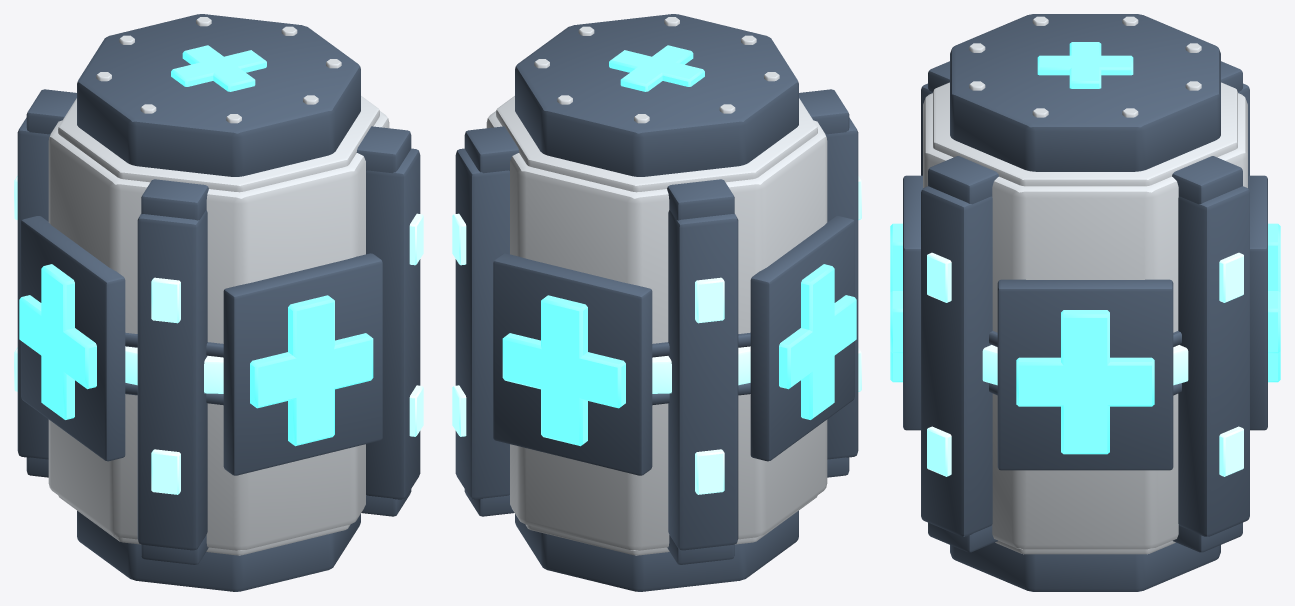
Rendered from pickup_repair.glb.
The picture shows the model from 3 angles, left to right: view 1: azimuth 30°, elevation 25°; view 2: azimuth 150°, elevation 25°; view 3: azimuth 270°, elevation 25°; orthographic projection.
Parts seen in each view (by area): view 1: Pickup_MedPod_Core, Pickup_MedPod_Cap_1, Pickup_MedPod_CornerRib_2, Pickup_MedPod_Bezel_3, Pickup_MedPod_CornerRib_3, Pickup_MedPod_Bezel_2, Pickup_MedPod_Cap_-1, Pickup_MedPod_Collar_1, Pickup_MedPod_CrossV_3, Pickup_MedPod_CrossH_3, Pickup_MedPod_CornerRib_1, Pickup_MedPod_CrossV_2 (+14 smaller); view 2: Pickup_MedPod_Core, Pickup_MedPod_Cap_1, Pickup_MedPod_CornerRib_1, Pickup_MedPod_Bezel_1, Pickup_MedPod_CornerRib_0, Pickup_MedPod_Bezel_2, Pickup_MedPod_Cap_-1, Pickup_MedPod_Collar_1, Pickup_MedPod_CrossV_1, Pickup_MedPod_CrossH_1, Pickup_MedPod_CornerRib_2, Pickup_MedPod_CrossV_2 (+14 smaller); view 3: Pickup_MedPod_Core, Pickup_MedPod_Cap_1, Pickup_MedPod_Bezel_0, Pickup_MedPod_CornerRib_0, Pickup_MedPod_CornerRib_3, Pickup_MedPod_Cap_-1, Pickup_MedPod_Collar_1, Pickup_MedPod_CrossH_0, Pickup_MedPod_CrossV_0, Pickup_MedPod_Bezel_1, Pickup_MedPod_Bezel_3, Pickup_MedPod_Knuckle_0_1 (+15 smaller).
Boxes of the visible parts, bbox=[...] form: Pickup_MedPod_Core: bbox=[48, 111, 389, 550]; Pickup_MedPod_Cap_1: bbox=[77, 14, 360, 176]; Pickup_MedPod_CornerRib_2: bbox=[137, 210, 207, 550]; Pickup_MedPod_Bezel_3: bbox=[223, 253, 382, 475]; Pickup_MedPod_CornerRib_3: bbox=[366, 148, 420, 499]; Pickup_MedPod_Bezel_2: bbox=[21, 216, 125, 461]; Pickup_MedPod_Cap_-1: bbox=[77, 511, 360, 591]; Pickup_MedPod_Collar_1: bbox=[58, 96, 379, 192]; Pickup_MedPod_CrossV_3: bbox=[288, 295, 334, 446]; Pickup_MedPod_CrossH_3: bbox=[250, 333, 373, 408]; Pickup_MedPod_CornerRib_1: bbox=[17, 117, 49, 459]; Pickup_MedPod_CrossV_2: bbox=[41, 264, 74, 419]; Pickup_MedPod_Core: bbox=[486, 111, 827, 550]; Pickup_MedPod_Cap_1: bbox=[515, 14, 798, 176]; Pickup_MedPod_CornerRib_1: bbox=[668, 210, 738, 550]; Pickup_MedPod_Bezel_1: bbox=[493, 253, 652, 475]; Pickup_MedPod_CornerRib_0: bbox=[455, 148, 509, 499]; Pickup_MedPod_Bezel_2: bbox=[750, 216, 854, 461]; Pickup_MedPod_Cap_-1: bbox=[515, 511, 798, 591]; Pickup_MedPod_Collar_1: bbox=[496, 96, 817, 192]; Pickup_MedPod_CrossV_1: bbox=[541, 295, 587, 446]; Pickup_MedPod_CrossH_1: bbox=[502, 333, 625, 408]; Pickup_MedPod_CornerRib_2: bbox=[826, 117, 858, 459]; Pickup_MedPod_CrossV_2: bbox=[801, 264, 834, 419]; Pickup_MedPod_Core: bbox=[923, 93, 1247, 549]; Pickup_MedPod_Cap_1: bbox=[950, 14, 1220, 171]; Pickup_MedPod_Bezel_0: bbox=[997, 279, 1173, 470]; Pickup_MedPod_CornerRib_0: bbox=[1178, 186, 1249, 536]; Pickup_MedPod_CornerRib_3: bbox=[921, 186, 992, 536]; Pickup_MedPod_Cap_-1: bbox=[950, 542, 1220, 591]; Pickup_MedPod_Collar_1: bbox=[933, 82, 1237, 186]; Pickup_MedPod_CrossH_0: bbox=[1016, 357, 1154, 406]; Pickup_MedPod_CrossV_0: bbox=[1061, 310, 1109, 454]; Pickup_MedPod_Bezel_1: bbox=[1248, 175, 1267, 430]; Pickup_MedPod_Bezel_3: bbox=[903, 175, 922, 430]; Pickup_MedPod_Knuckle_0_1: bbox=[1172, 156, 1242, 204].
Bounding box in the file's own units: 1.47 × 2 × 1.47.
